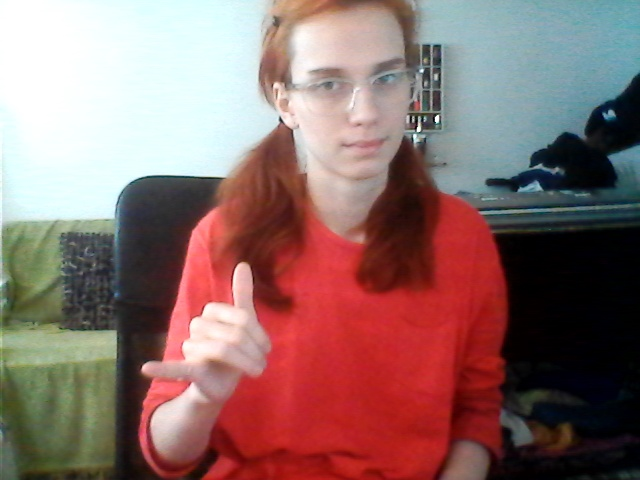ano: (133, 259, 285, 405)
